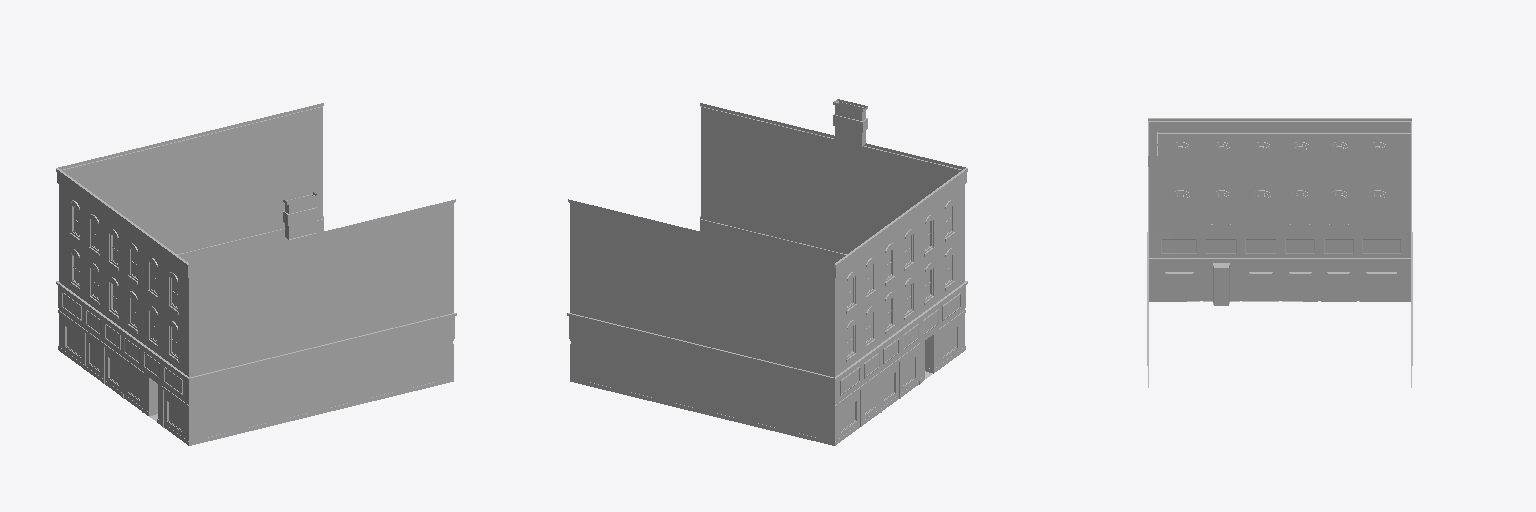
File: downtownBuilding_2.obj
3 views of the same model, side by side, from view 1: azimuth 30°, elevation 25°; view 2: azimuth 150°, elevation 25°; view 3: azimuth 270°, elevation 25° (orthographic).
Visible parts, largest first — view 1: Cube; view 2: Cube; view 3: Cube.
Part boxes in pixels (x1,y1,x2,y2): Cube: (56, 103, 456, 445); Cube: (567, 99, 967, 445); Cube: (1147, 118, 1412, 387).
Bounding box in the file's own units: 20.5 × 16.02 × 17.52.